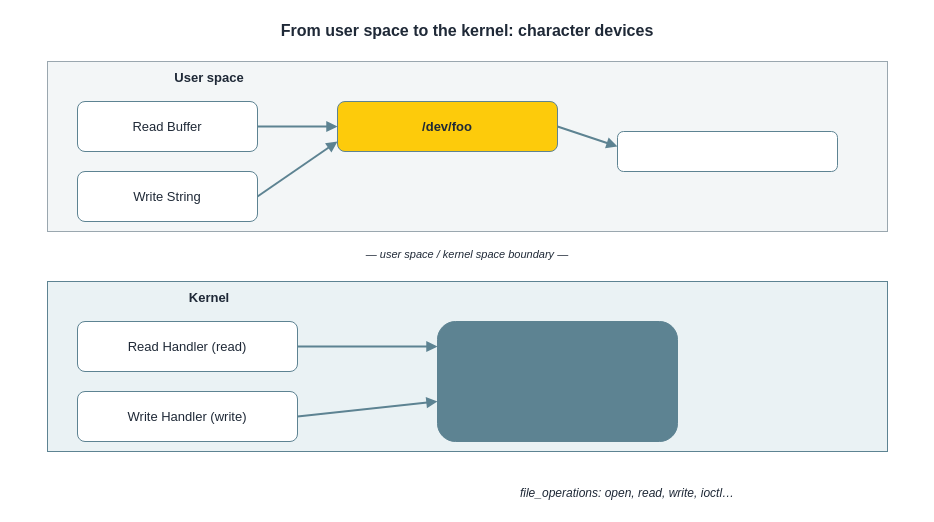
This 934x522 diagram has some shape labels left out. The shapes that lost their labels are listed below. From the top down, each one's box as (x1, y1, x2, y2) in pixels, then its label:
(616, 130, 838, 172): Major / Minor
(436, 320, 678, 442): Device (character driver)
